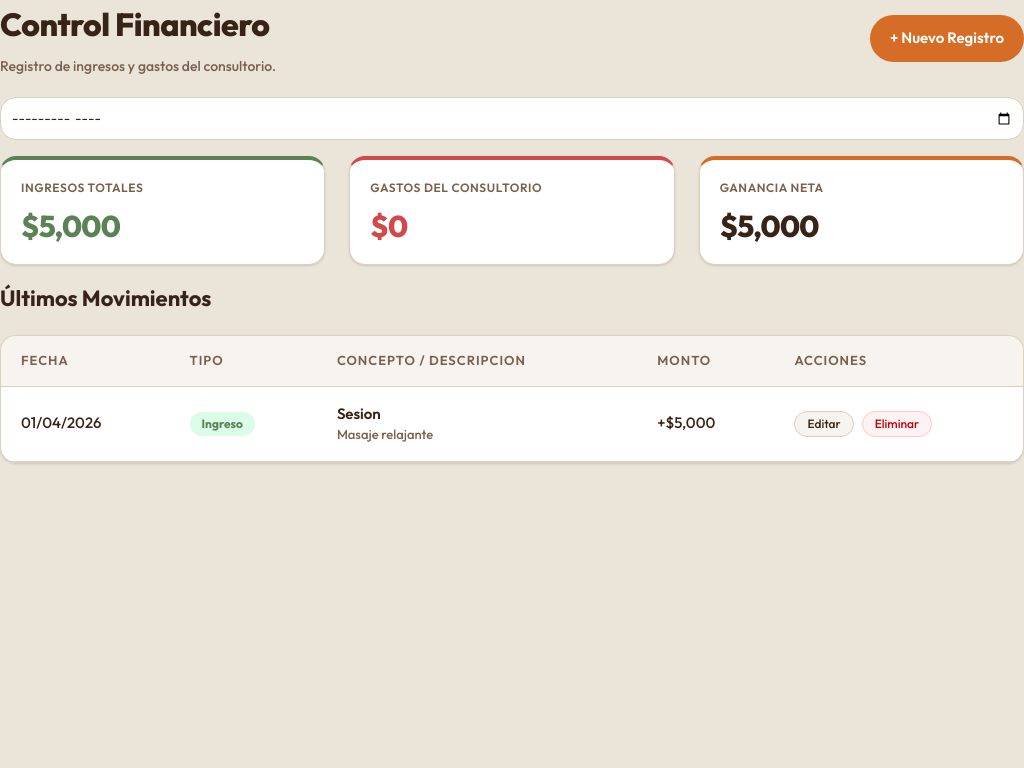
D19 — Edit finance › opens edit modal pre-populated with finance data
This screenshot has width=1024, height=768.
Expected: the text "Sesion" is shown, x1=337 y1=404 x2=381 y2=422
Click the button "Editar": (824, 424) x1=794 y1=410 x2=854 y2=436
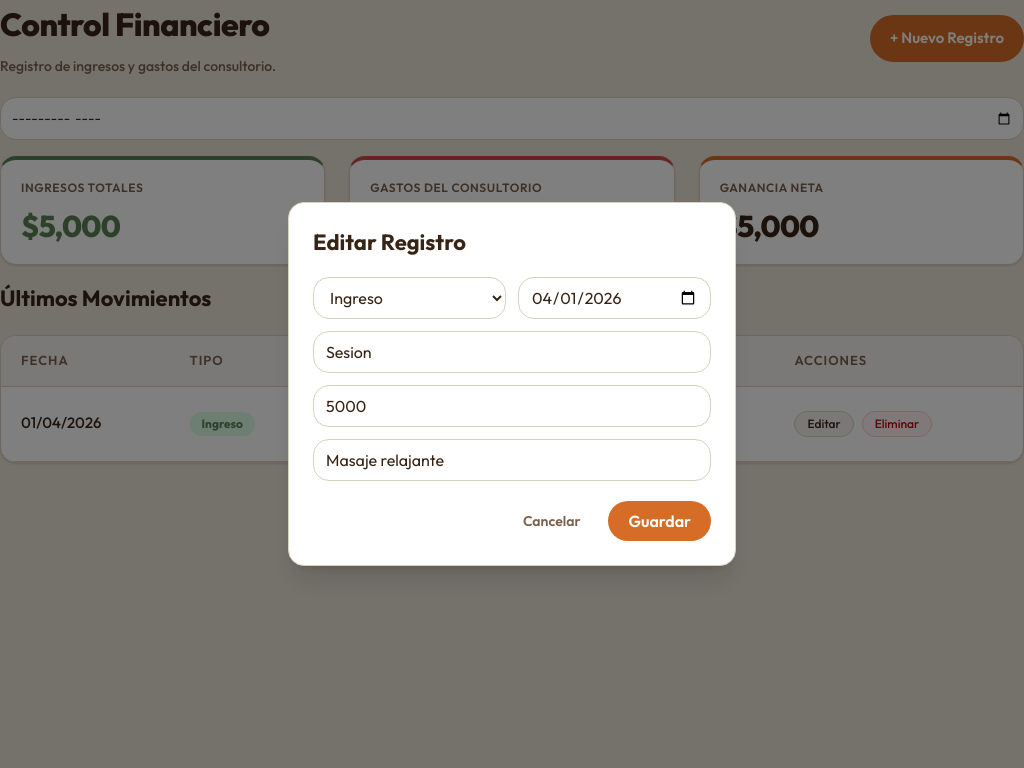
Expected: the heading "Editar Registro" is shown, x1=313 y1=228 x2=466 y2=256
Expected: the 1st field named "category" holds "Sesion", x1=313 y1=331 x2=711 y2=373
Expected: the number field named "amount" holds "5000", x1=313 y1=385 x2=711 y2=427
